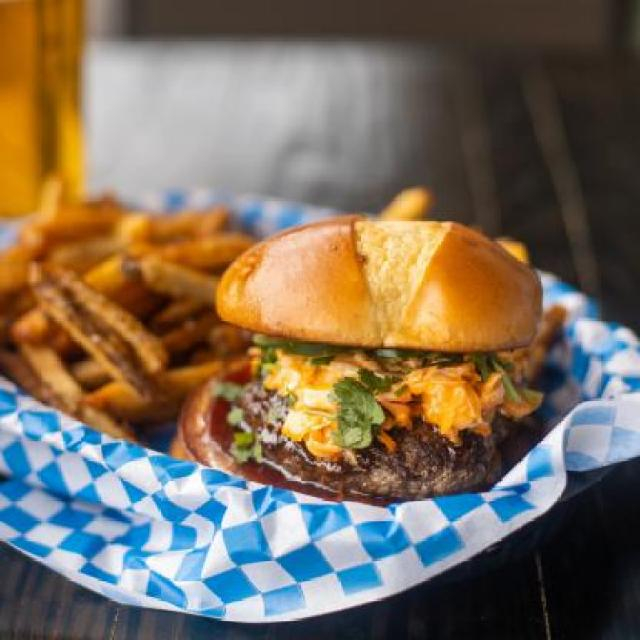french fries: (2, 150, 221, 459)
hamburger: (198, 188, 556, 507)
